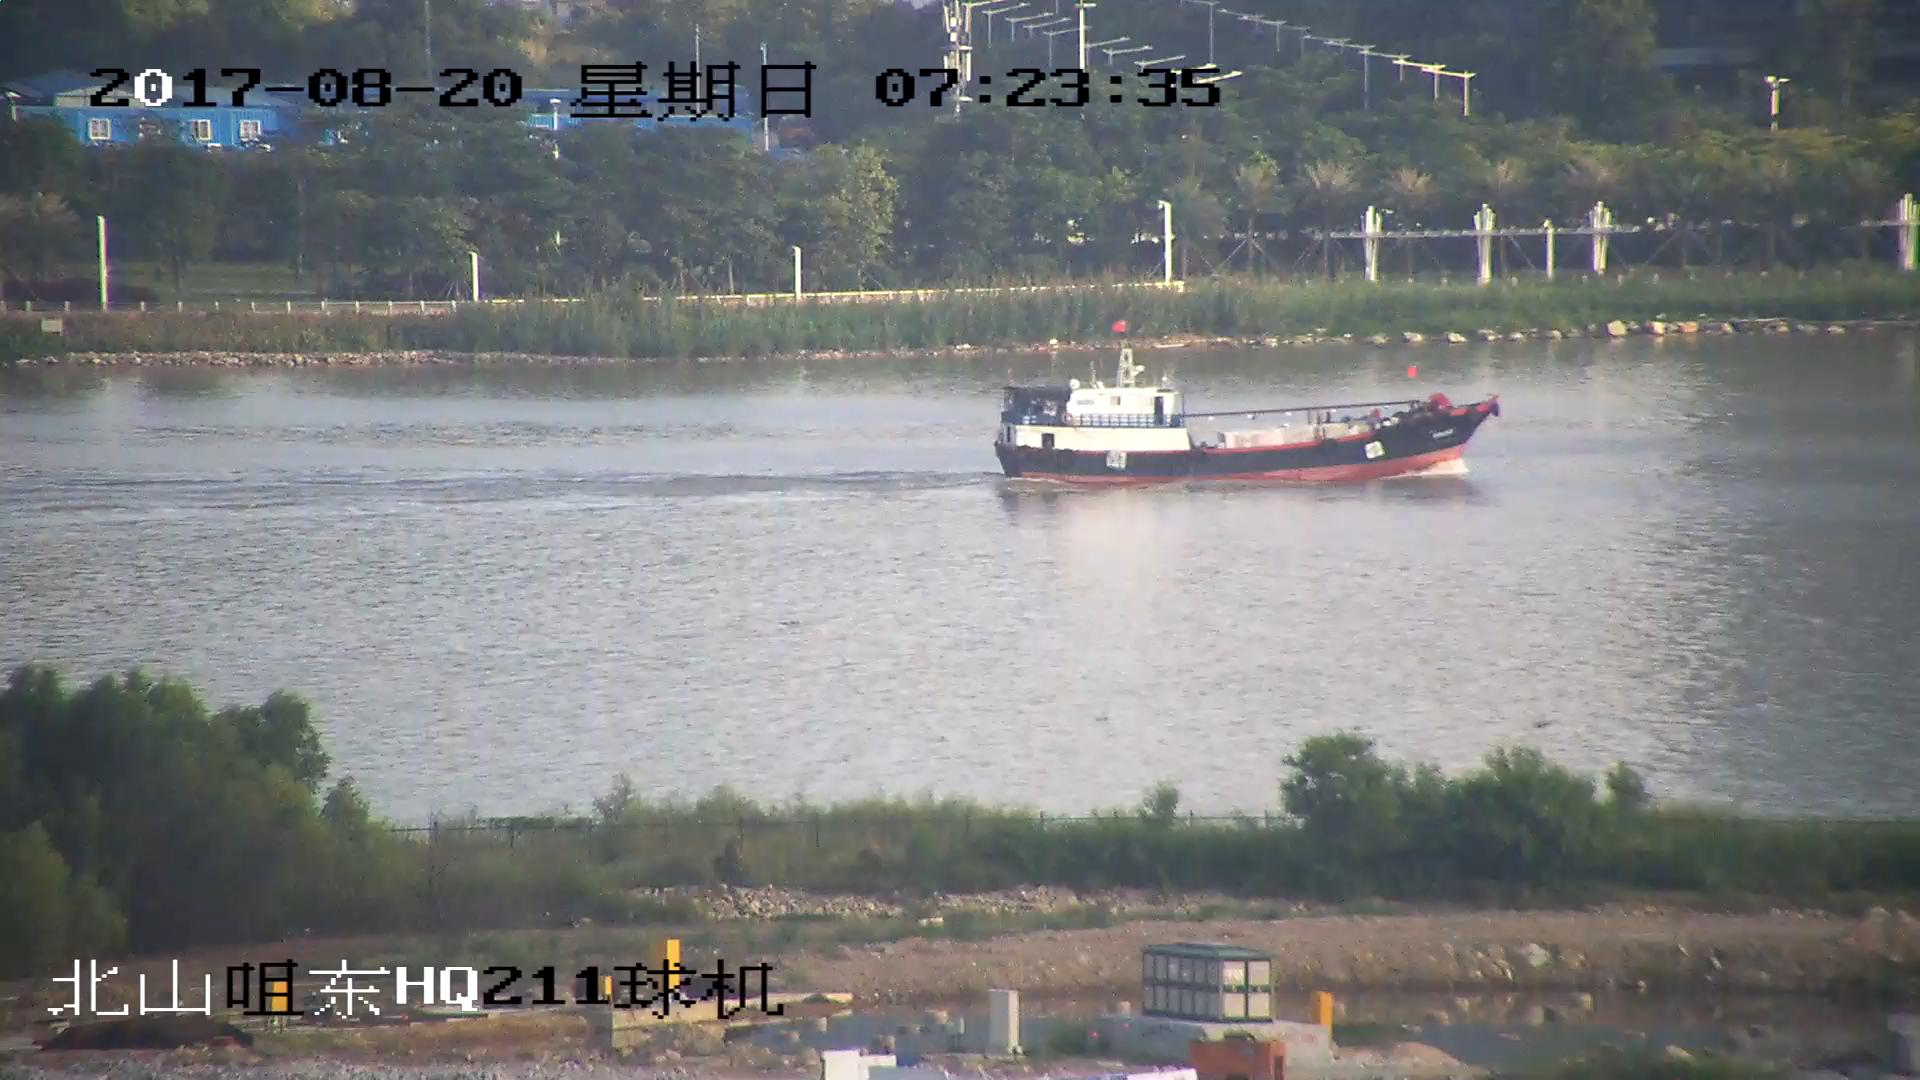fishing boat: (992, 347, 1501, 488)
